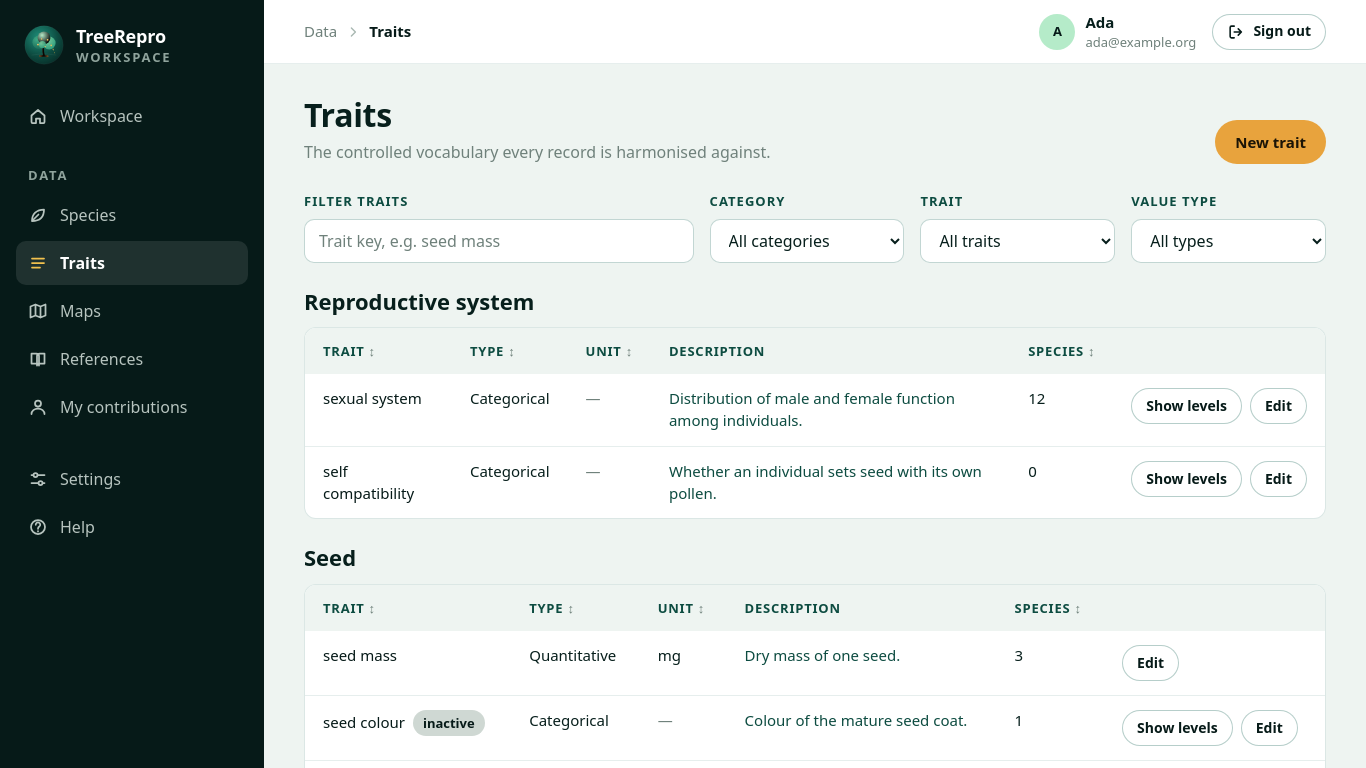
Test case: RFC-62 R6 TraitsPage editing › opens the edit dialog for a trait with its category preselected
Step 1. Click the button with aria-label "Edit sexual system" → (1278, 406), box [1250, 388, 1307, 424]
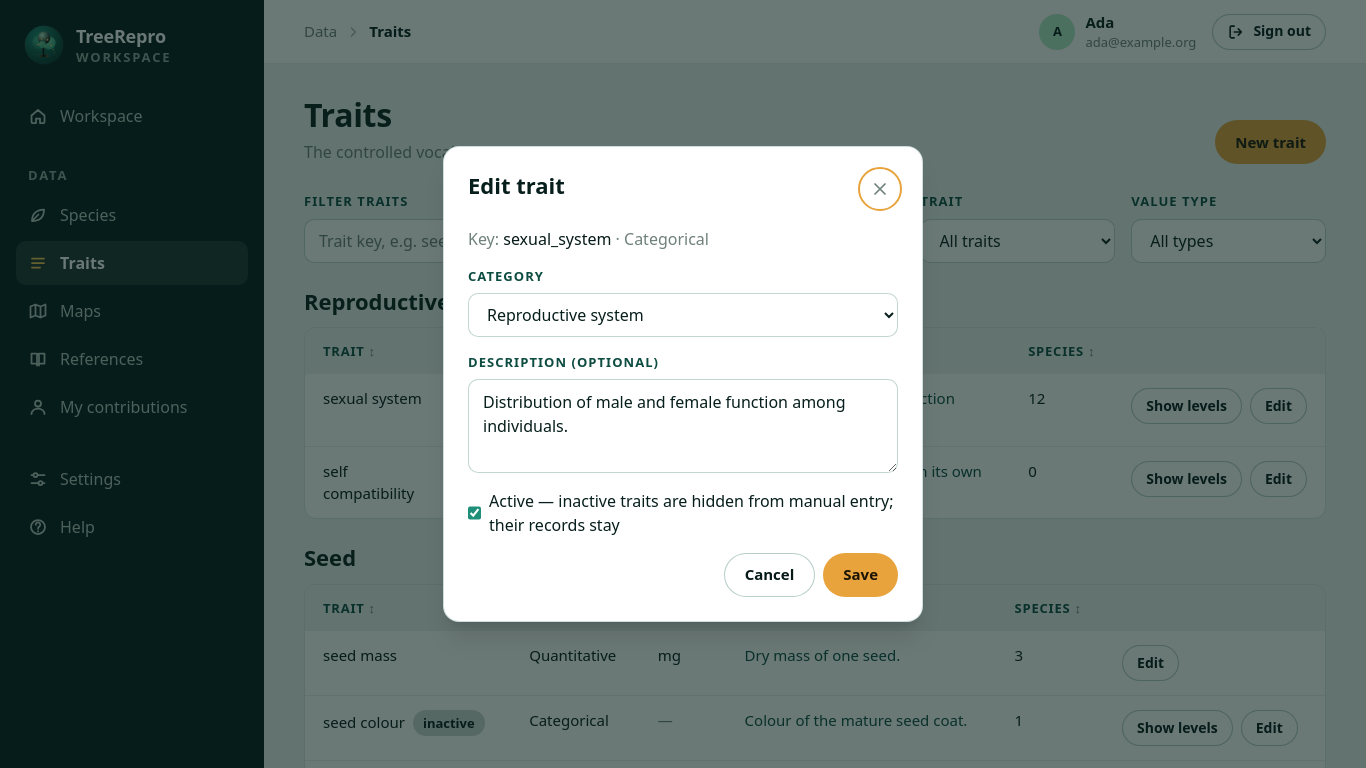
Now the dropdown labelled "Category" shows "Reproductive system", box [468, 293, 898, 337]
Step 2. Click the button "Cancel" → (769, 575), box [724, 553, 815, 597]
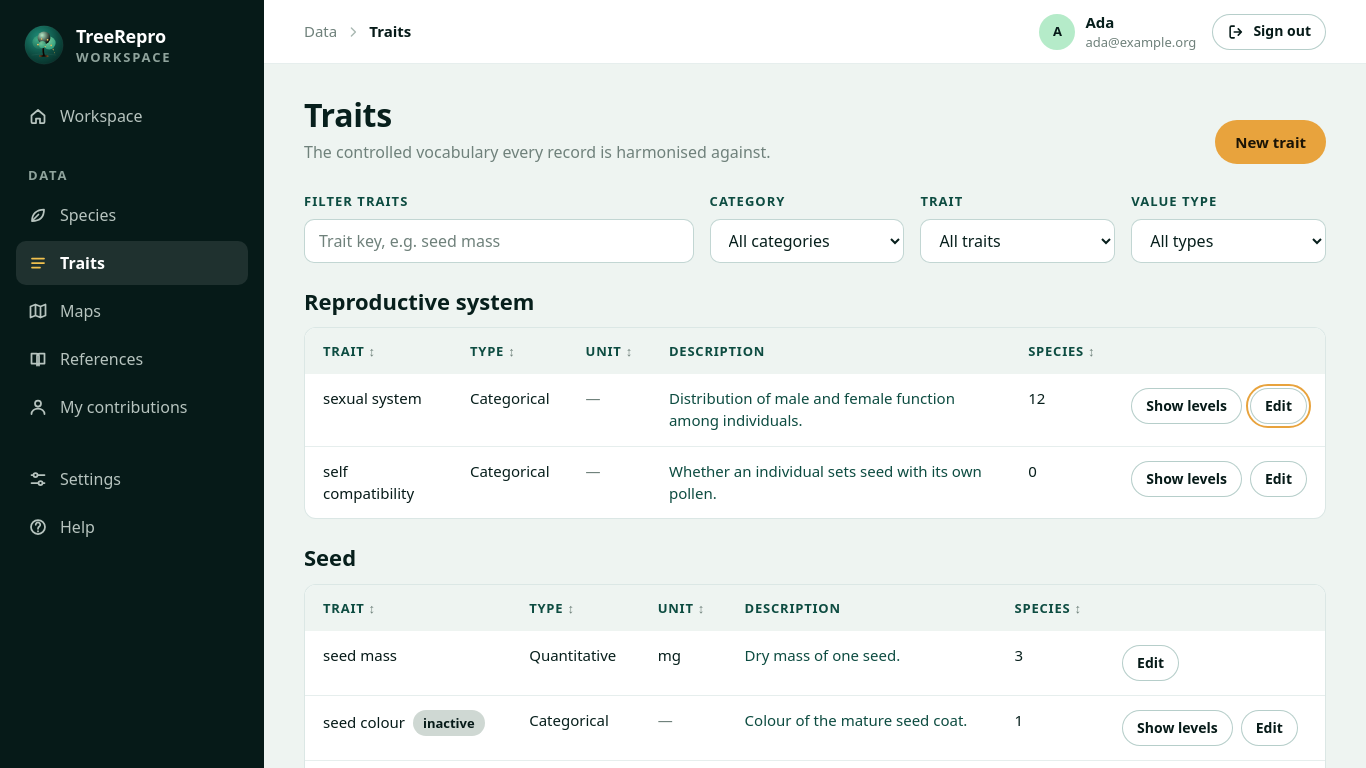
Now the dialog is gone
